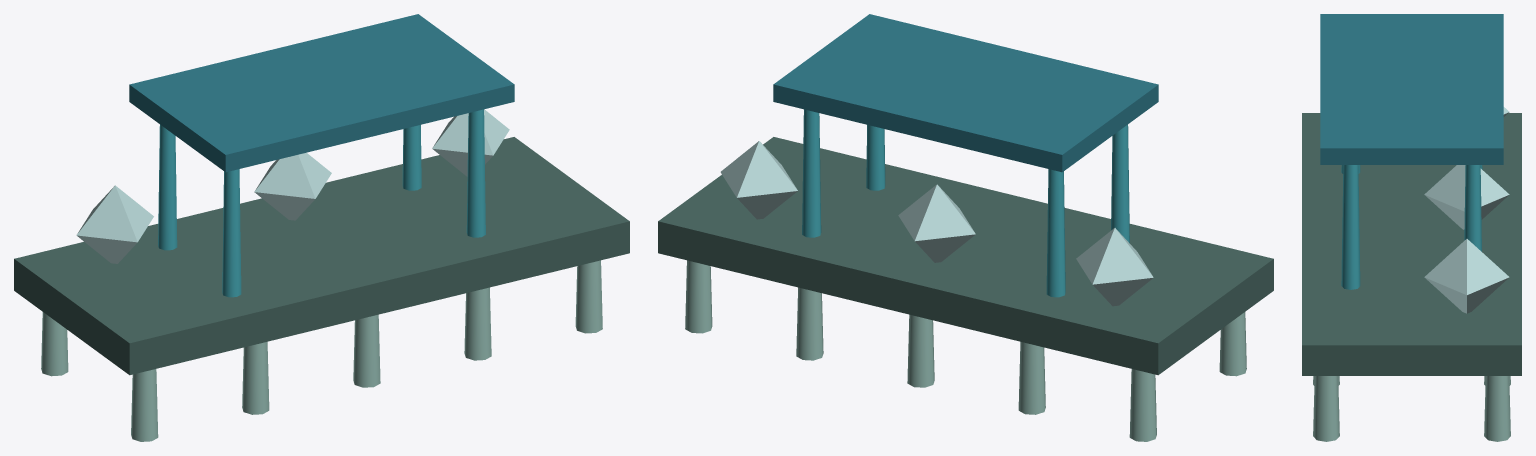
File: crystal_dock.glb
The picture shows the model from 3 angles, left to right: view 1: azimuth 30°, elevation 25°; view 2: azimuth 150°, elevation 25°; view 3: azimuth 270°, elevation 25°; orthographic projection. The views are drawn at different scales.
Visible parts, largest first — view 1: dock_deck, canopy_top, crystal_-32, crystal_0, canopy_post_0_1, canopy_post_1_1, crystal_32, canopy_post_0_0, pile_2_1, pile_3_1, pile_1_1, pile_4_1 (+3 smaller); view 2: dock_deck, canopy_top, crystal_0, crystal_-32, crystal_32, canopy_post_0_0, canopy_post_1_0, canopy_post_0_1, pile_2_0, pile_3_0, pile_1_0, pile_4_0 (+3 smaller); view 3: dock_deck, canopy_top, crystal_32, crystal_0, canopy_post_1_1, pile_4_0, pile_4_1, canopy_post_1_0.
Part boxes in pixels (<box>): dock_deck: <box>14,137,629,375</box>; canopy_top: <box>129,14,514,172</box>; crystal_-32: <box>76,185,153,263</box>; crystal_0: <box>254,152,331,220</box>; canopy_post_0_1: <box>222,169,241,297</box>; canopy_post_1_1: <box>466,109,485,237</box>; crystal_32: <box>432,109,509,176</box>; canopy_post_0_0: <box>158,124,177,250</box>; pile_2_1: <box>353,314,380,387</box>; pile_3_1: <box>464,287,491,360</box>; pile_1_1: <box>242,341,269,414</box>; pile_4_1: <box>575,260,602,333</box>; dock_deck: <box>658,137,1273,375</box>; canopy_top: <box>773,14,1158,172</box>; crystal_0: <box>898,184,975,262</box>; crystal_-32: <box>1076,228,1153,306</box>; crystal_32: <box>720,141,797,219</box>; canopy_post_0_0: <box>1046,169,1065,297</box>; canopy_post_1_0: <box>802,109,821,237</box>; canopy_post_0_1: <box>1111,124,1129,243</box>; pile_2_0: <box>907,314,934,387</box>; pile_3_0: <box>796,287,823,360</box>; pile_1_0: <box>1018,341,1045,414</box>; pile_4_0: <box>685,260,712,333</box>; dock_deck: <box>1302,113,1521,375</box>; canopy_top: <box>1320,14,1503,164</box>; crystal_32: <box>1424,239,1509,313</box>; crystal_0: <box>1424,165,1509,229</box>; canopy_post_1_1: <box>1341,165,1360,289</box>; pile_4_0: <box>1484,376,1510,441</box>; pile_4_1: <box>1313,376,1339,441</box>; canopy_post_1_0: <box>1464,165,1481,251</box>.
Size of the model in its own units: 9 by 4.55 by 3.6.
